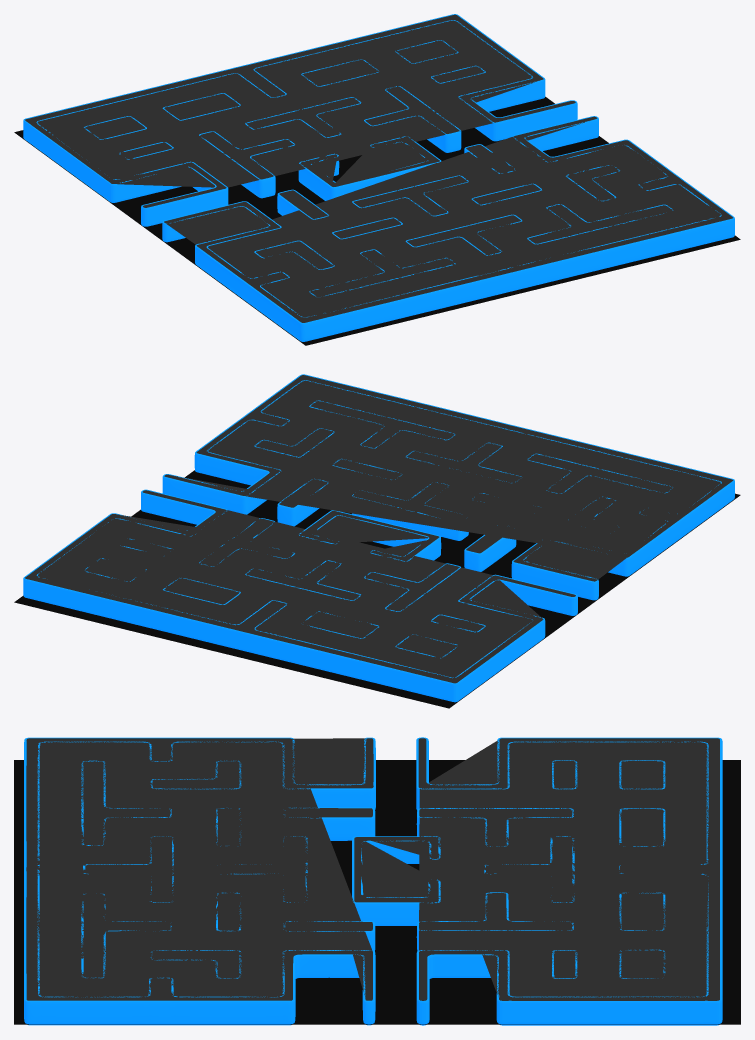
File: PacMan.fbx
The picture shows the model from 3 angles, top to bottom: view 1: azimuth 30°, elevation 25°; view 2: azimuth 150°, elevation 25°; view 3: azimuth 270°, elevation 25°; orthographic projection. The views are drawn at different scales.
Visible parts, largest first — view 1: Plane; view 2: Plane; view 3: Plane.
Part boxes in pixels (bbox=[...]): Plane: bbox=[14, 14, 740, 345]; Plane: bbox=[14, 374, 740, 708]; Plane: bbox=[14, 737, 740, 1025].
Size of the model in its own units: 3892 by 176 by 4519.
